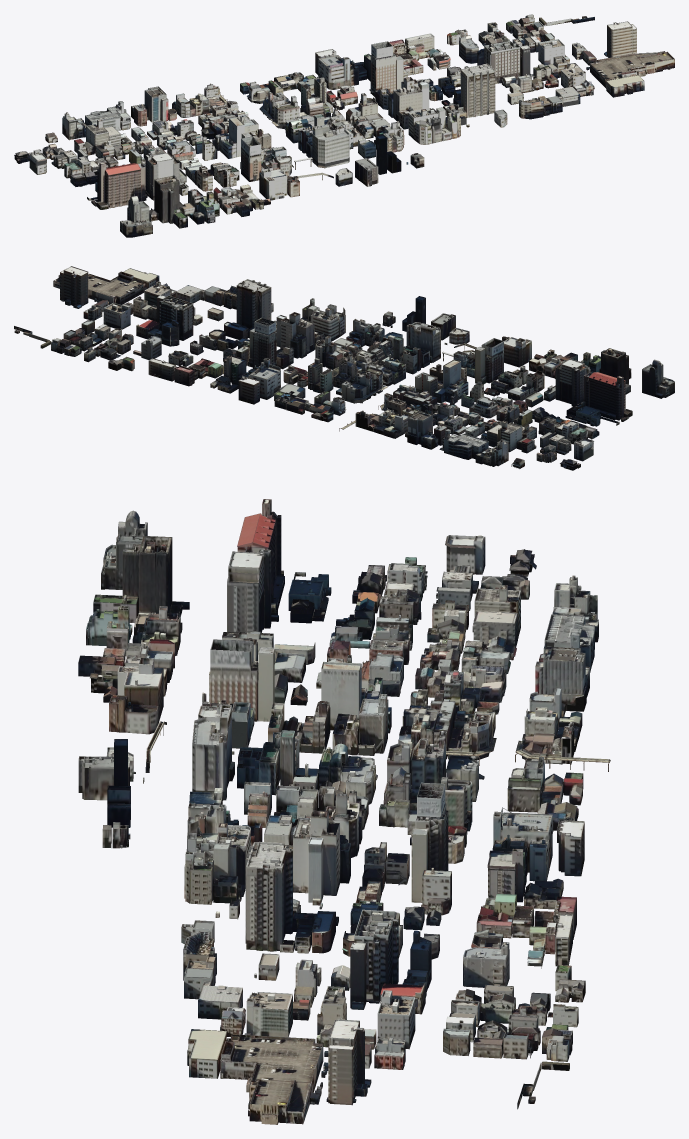
Rendered from 2023-lod3-station-8-1-packed.glb.
3 views of the same model, one above another, from view 1: azimuth 30°, elevation 25°; view 2: azimuth 150°, elevation 25°; view 3: azimuth 270°, elevation 25° (orthographic). The views are drawn at different scales.
Size of the model in its own units: 620 by 50.17 by 247.
6 materials, 5 textured.
